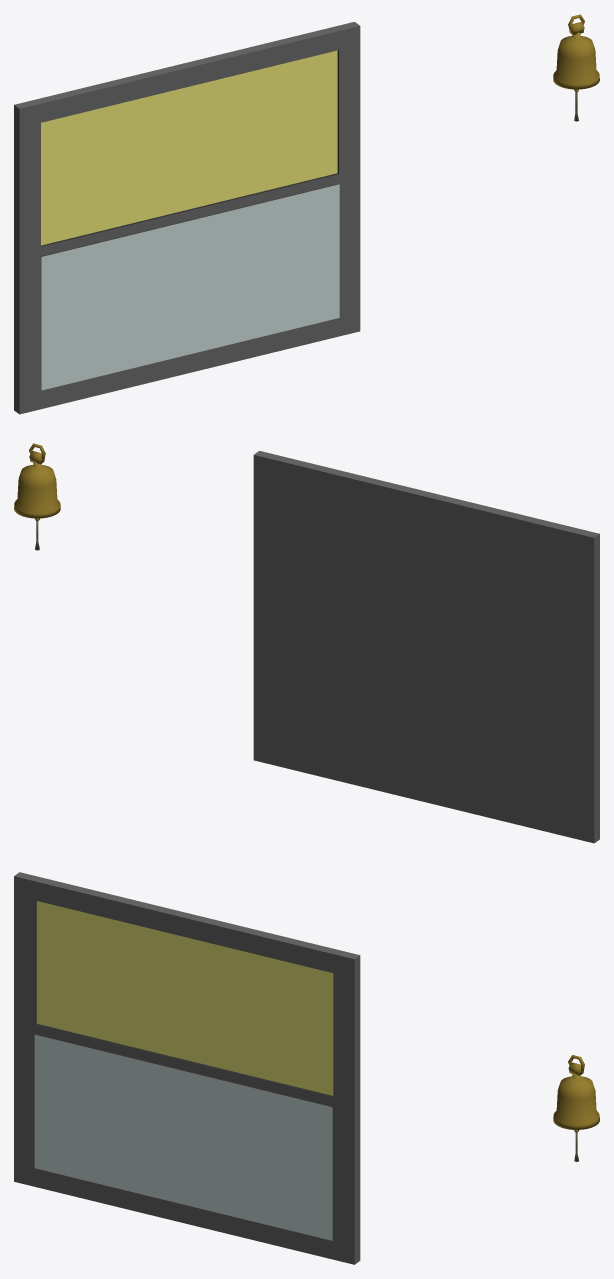
Rendered from elevator.fbx.
The picture shows the model from 3 angles, top to bottom: view 1: azimuth 30°, elevation 25°; view 2: azimuth 150°, elevation 25°; view 3: azimuth 330°, elevation 25°; orthographic projection.
Parts seen in each view (by area): view 1: elevator_door, bell; view 2: elevator_door, bell; view 3: elevator_door, bell.
Part boxes in pixels (bbox=[...]): elevator_door: bbox=[14, 22, 360, 414]; bell: bbox=[553, 32, 599, 89]; elevator_door: bbox=[253, 451, 599, 843]; bell: bbox=[14, 461, 60, 518]; elevator_door: bbox=[14, 872, 360, 1264]; bell: bbox=[553, 1073, 599, 1129].
Size of the model in its own units: 596 by 300 by 41.74.
